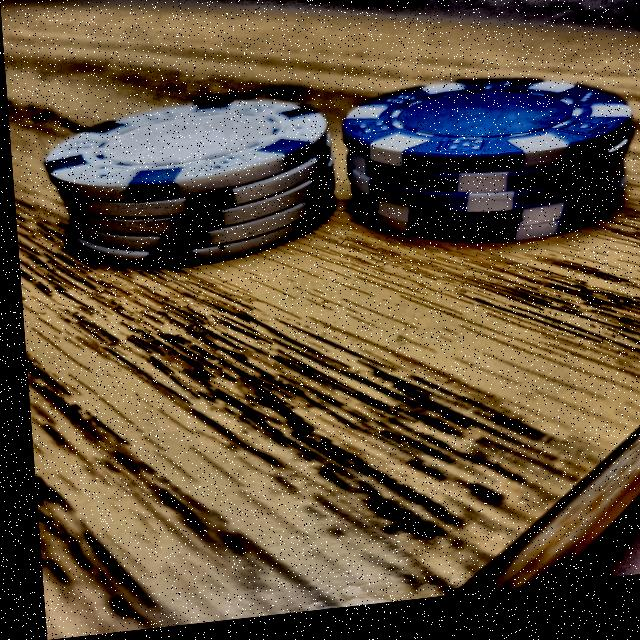Chip: (34, 79, 345, 296), (332, 69, 640, 269)
